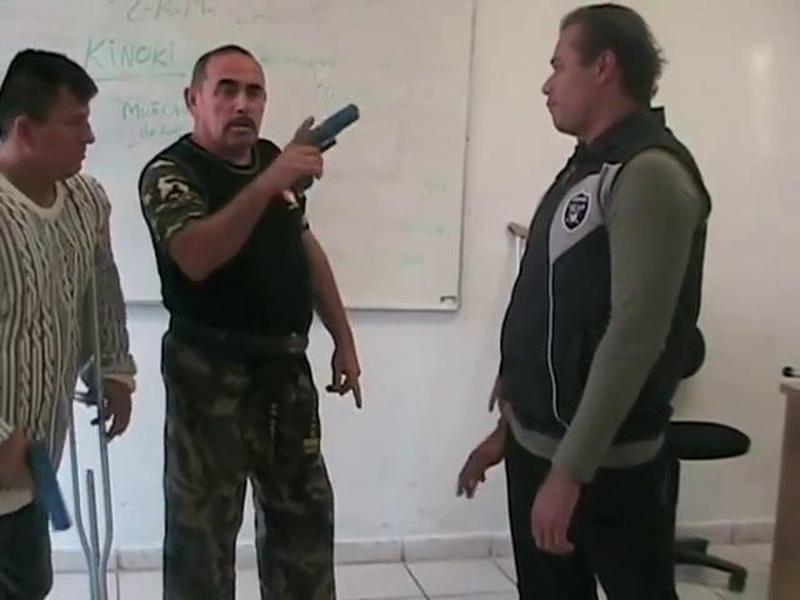Pistola: (4, 421, 93, 539), (273, 88, 362, 206)
